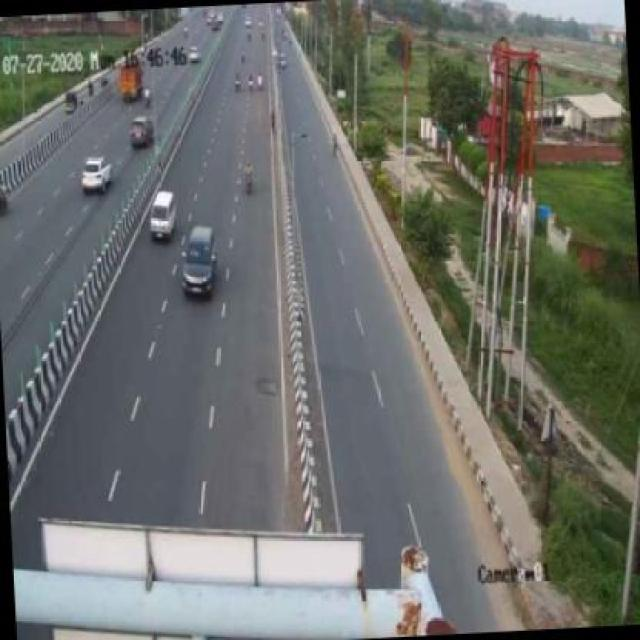car: (174, 218, 221, 298), (150, 183, 176, 248), (77, 148, 111, 194), (129, 114, 154, 152)
